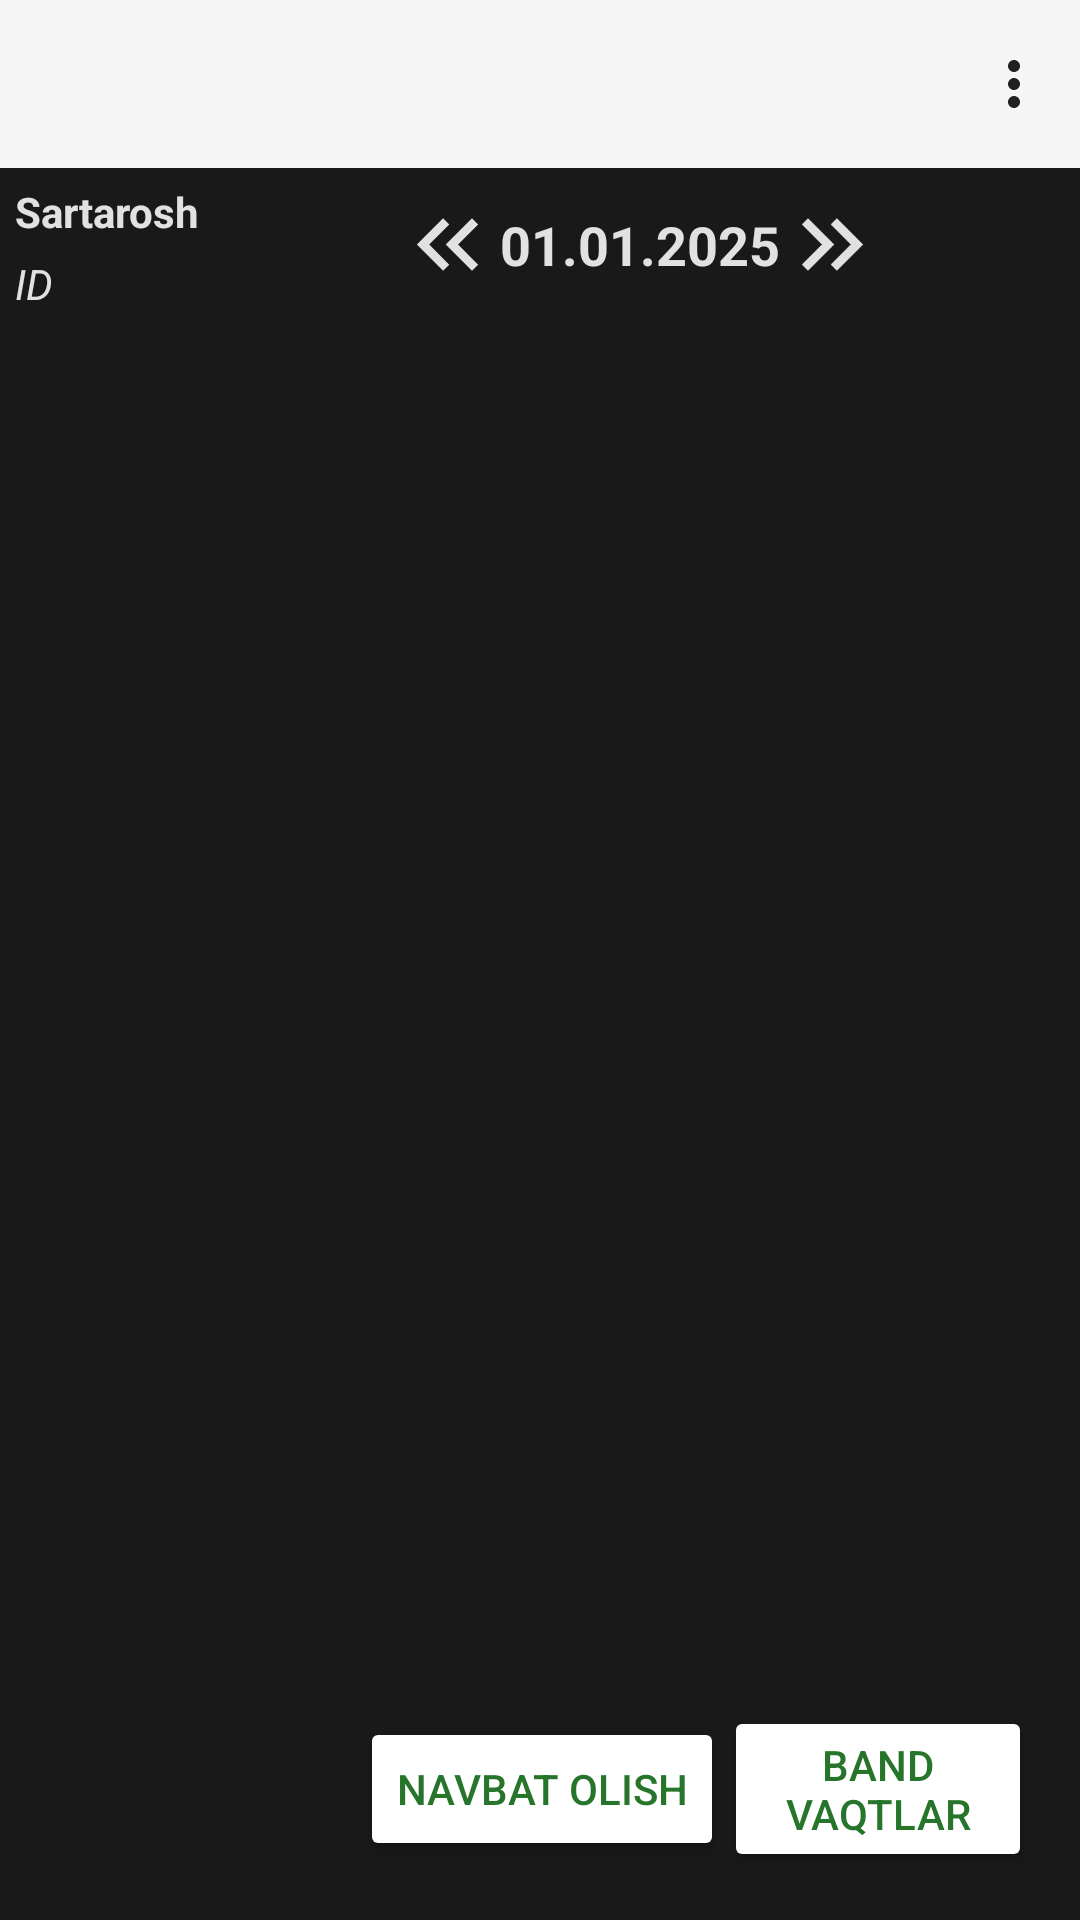

Where to tap for icons on this 1080px x 1920px app screen, as point (x, y):
keyboard double arrow left: point (447, 244)
keyboard double arrow right: point (832, 244)
